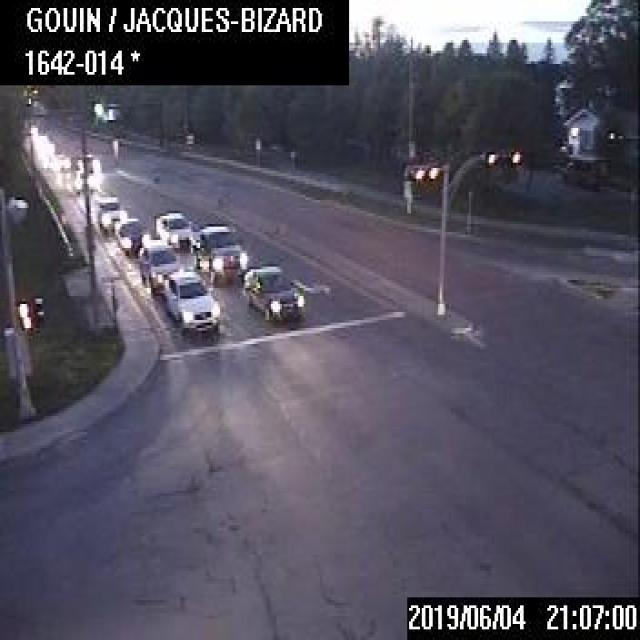vehicle: (190, 224, 246, 286), (164, 270, 218, 330), (243, 263, 301, 318), (136, 237, 178, 295), (153, 210, 192, 248), (115, 217, 148, 254), (94, 195, 125, 234)
